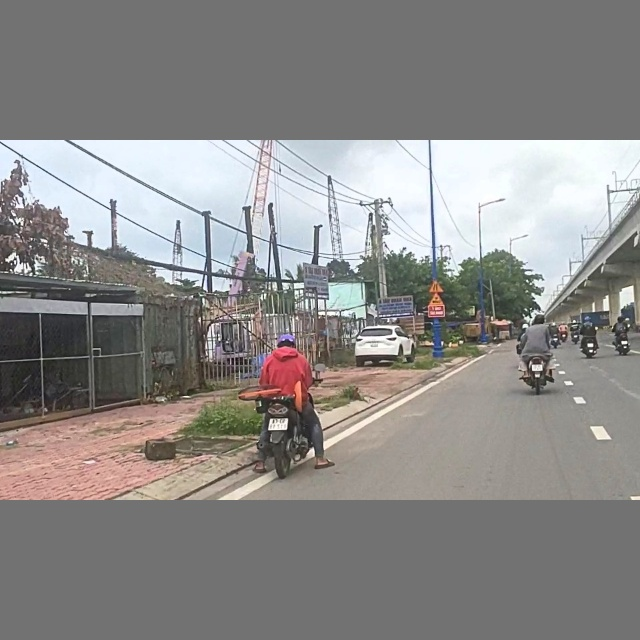W.203c: (429, 279, 444, 292)
W.245a: (427, 293, 444, 305)
